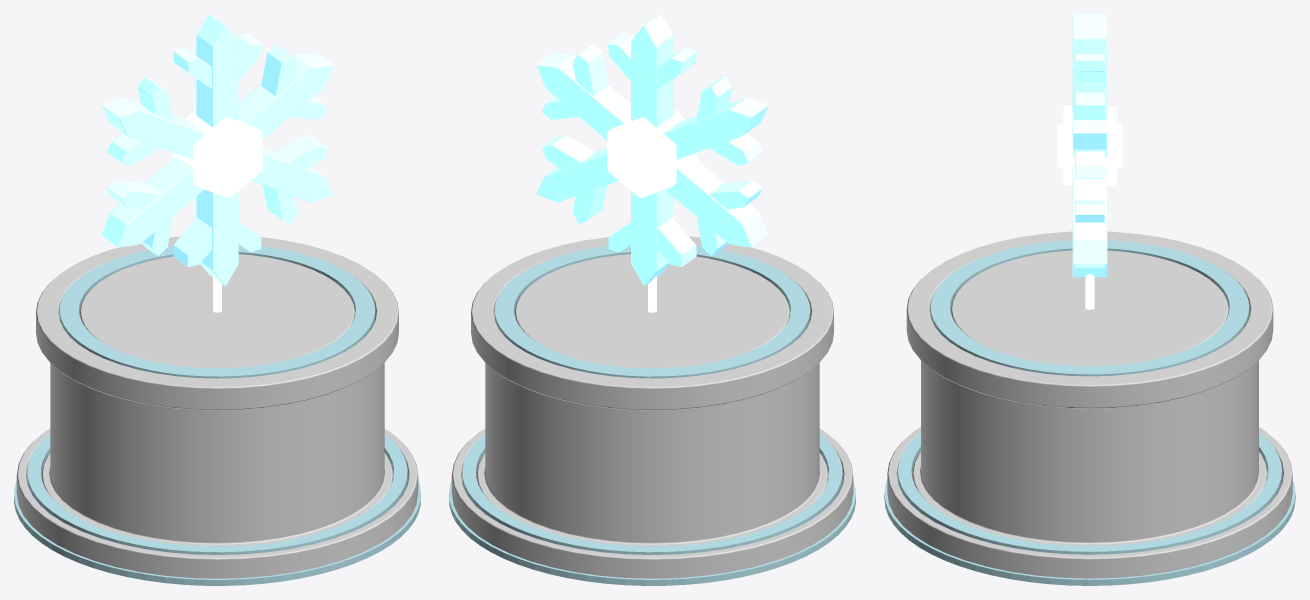
The model's file is Lobby_PED_Ice.fbx.
3 views of the same model, side by side, from view 1: azimuth 30°, elevation 25°; view 2: azimuth 150°, elevation 25°; view 3: azimuth 270°, elevation 25° (orthographic).
Parts seen in each view (by area): view 1: PedestalMarble__Ice, PedNeon_Ice__Ice_TopNeon, PedNeon_Ice__Ice_BaseNeon, Glyph_IceBody__IceArm_4, Glyph_IceBody__IceArm_0, PedNeon_Ice__Ice_BaseNeonEdge, Glyph_IceBody__IceArm_1, Glyph_IceCore__IceGem, Glyph_IceBody__IceArm_5, Glyph_IceBody__IceArm_3, Glyph_IceBody__IceArm_2, Glyph_IceCore__IceGemInner (+10 smaller); view 2: PedestalMarble__Ice, PedNeon_Ice__Ice_TopNeon, PedNeon_Ice__Ice_BaseNeon, Glyph_IceBody__IceArm_4, Glyph_IceBody__IceArm_0, PedNeon_Ice__Ice_BaseNeonEdge, Glyph_IceBody__IceArm_1, Glyph_IceCore__IceGem, Glyph_IceBody__IceArm_5, Glyph_IceBody__IceArm_3, Glyph_IceBody__IceArm_2, Glyph_IceCore__IceGemInner (+10 smaller); view 3: PedestalMarble__Ice, PedNeon_Ice__Ice_TopNeon, PedNeon_Ice__Ice_BaseNeon, PedNeon_Ice__Ice_BaseNeonEdge, Glyph_IceBody__IceArm_2, Glyph_IceBody__IceArm_0, Glyph_IceCore__IceGem, Glyph_IceBody__IceArm_1, Glyph_IceBody__IceBarb_1_1, Glyph_IceBody__IceBarb_0_1, Glyph_IceBody__IceBarb_1_-1, Glyph_IceBody__IceBarb_2_-1 (+1 smaller).
Boxes of the visible parts, bbox=[...] form: PedestalMarble__Ice: bbox=[16, 236, 418, 578]; PedNeon_Ice__Ice_TopNeon: bbox=[60, 245, 374, 378]; PedNeon_Ice__Ice_BaseNeon: bbox=[27, 434, 407, 554]; Glyph_IceBody__IceArm_4: bbox=[101, 156, 204, 247]; Glyph_IceBody__IceArm_0: bbox=[196, 14, 238, 127]; PedNeon_Ice__Ice_BaseNeonEdge: bbox=[14, 481, 420, 585]; Glyph_IceBody__IceArm_1: bbox=[238, 52, 333, 139]; Glyph_IceCore__IceGem: bbox=[172, 109, 262, 197]; Glyph_IceBody__IceArm_5: bbox=[101, 97, 205, 159]; Glyph_IceBody__IceArm_3: bbox=[196, 189, 238, 285]; Glyph_IceBody__IceArm_2: bbox=[251, 148, 333, 202]; Glyph_IceCore__IceGemInner: bbox=[212, 138, 250, 182]; PedestalMarble__Ice: bbox=[451, 236, 853, 578]; PedNeon_Ice__Ice_TopNeon: bbox=[495, 245, 809, 378]; PedNeon_Ice__Ice_BaseNeon: bbox=[462, 434, 842, 554]; Glyph_IceBody__IceArm_4: bbox=[665, 156, 768, 247]; Glyph_IceBody__IceArm_0: bbox=[631, 14, 673, 127]; PedNeon_Ice__Ice_BaseNeonEdge: bbox=[449, 481, 855, 585]; Glyph_IceBody__IceArm_1: bbox=[536, 52, 630, 140]; Glyph_IceCore__IceGem: bbox=[607, 109, 697, 197]; Glyph_IceBody__IceArm_5: bbox=[664, 97, 768, 159]; Glyph_IceBody__IceArm_3: bbox=[631, 190, 673, 285]; Glyph_IceBody__IceArm_2: bbox=[536, 148, 618, 202]; Glyph_IceCore__IceGemInner: bbox=[619, 138, 657, 182]; PedestalMarble__Ice: bbox=[887, 231, 1292, 578]; PedNeon_Ice__Ice_TopNeon: bbox=[930, 240, 1249, 376]; PedNeon_Ice__Ice_BaseNeon: bbox=[898, 432, 1281, 554]; PedNeon_Ice__Ice_BaseNeonEdge: bbox=[884, 480, 1295, 585]; Glyph_IceBody__IceArm_2: bbox=[1072, 166, 1107, 264]; Glyph_IceBody__IceArm_0: bbox=[1072, 14, 1107, 119]; Glyph_IceCore__IceGem: bbox=[1063, 106, 1116, 185]; Glyph_IceBody__IceArm_1: bbox=[1072, 120, 1107, 157]; Glyph_IceBody__IceBarb_1_1: bbox=[1075, 151, 1104, 179]; Glyph_IceBody__IceBarb_0_1: bbox=[1075, 54, 1104, 81]; Glyph_IceBody__IceBarb_1_-1: bbox=[1075, 92, 1104, 119]; Glyph_IceBody__IceBarb_2_-1: bbox=[1075, 200, 1104, 222].
Bounding box in the file's own units: 4.26 × 5.56 × 4.26.
